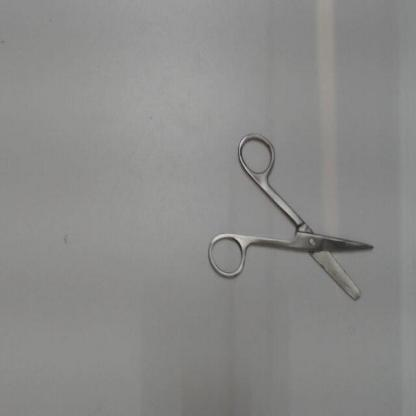Dressing Scissors: (202, 121, 386, 311)
